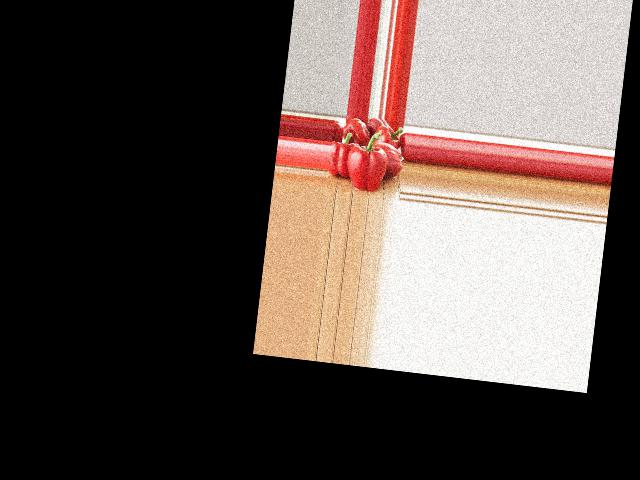bell_pepper: (373, 123, 405, 151)
